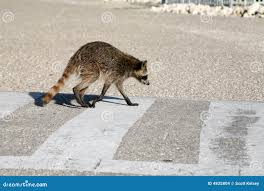raccoon: (34, 41, 154, 106)
